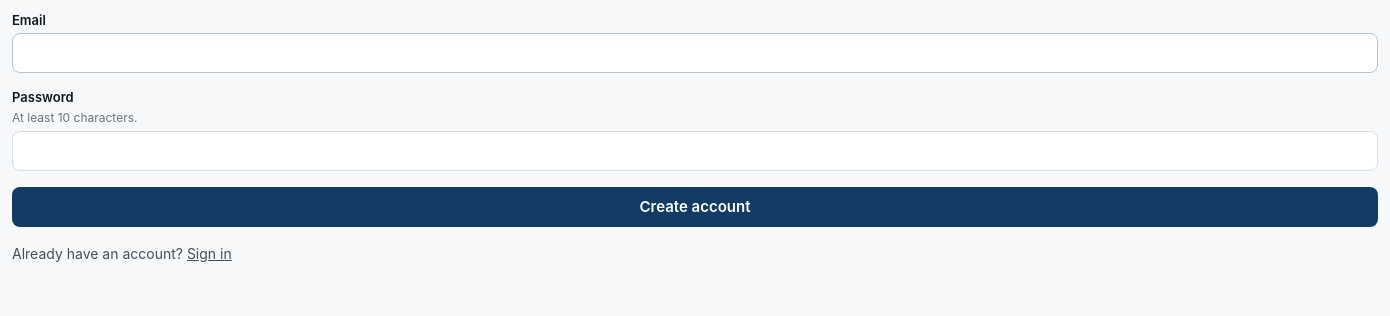
RegisterForm (Tracking + Notifications) › shows an accessible error and does not redirect when the email is already registered
Step 1. Type "a@example-test.invalid" into the field labelled "Email" → (695, 53), box 12,33 -> 1378,73
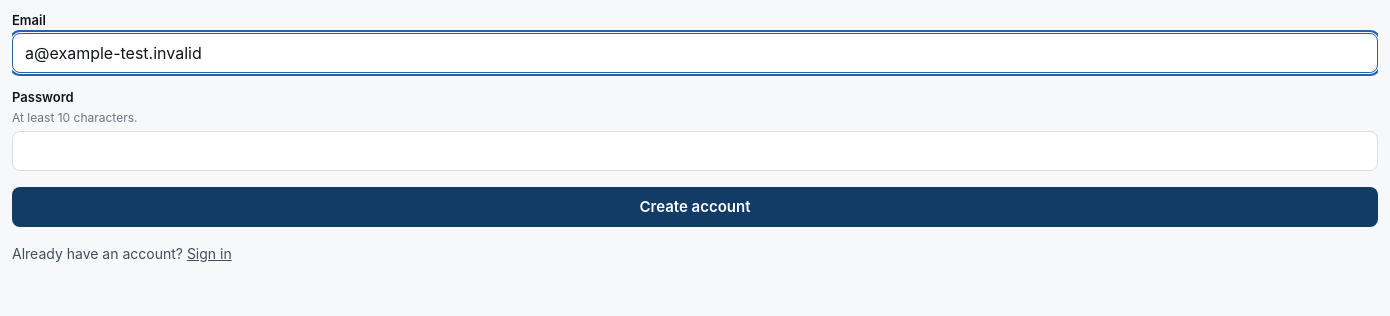
Step 2. Type "a-strong-password-1" into the password field labelled "Password" → (695, 151), box 12,131 -> 1378,171
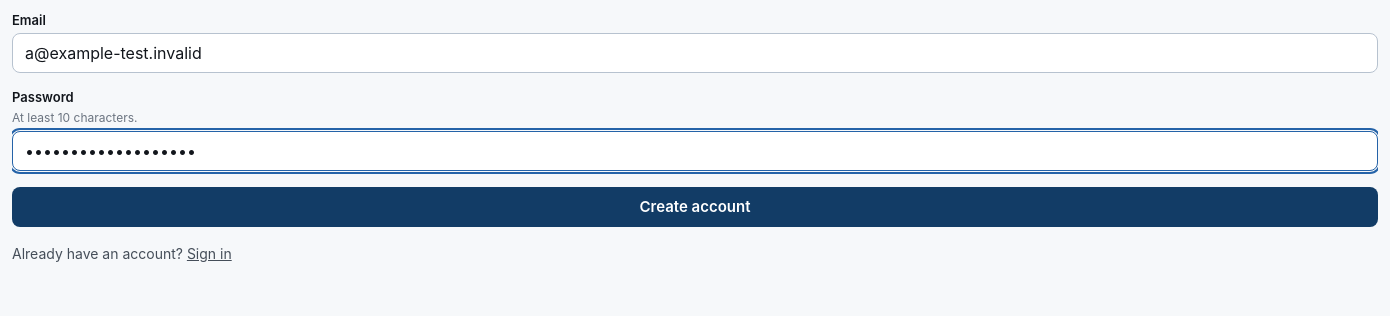
Step 3. Click the button "Create account" → (695, 207), box 12,187 -> 1378,227
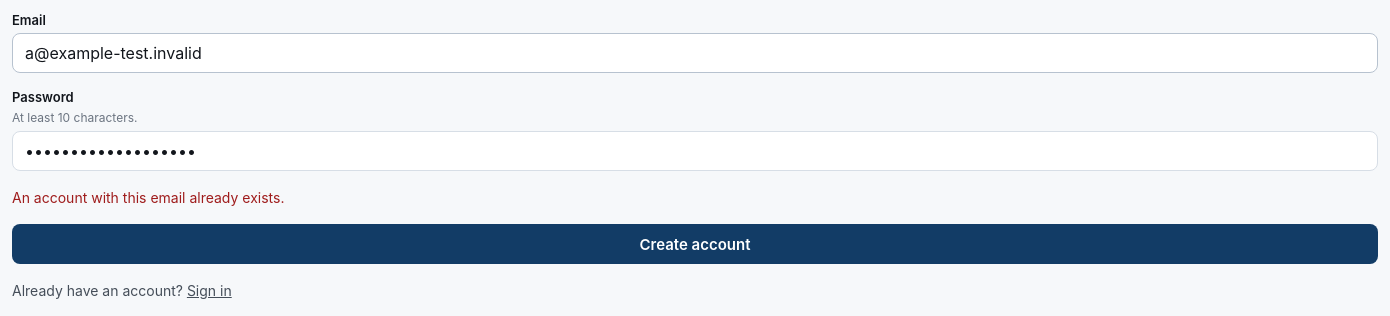
Check: the message reads "An account with this email already exists.", box 12,189 -> 284,206
